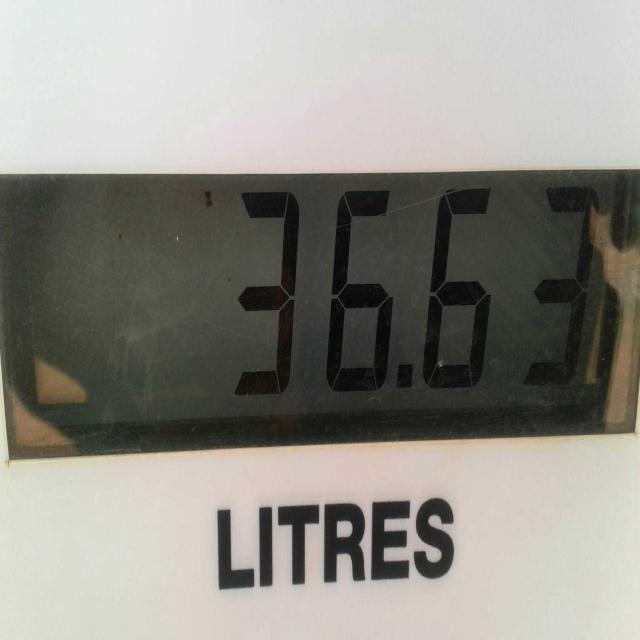.: (394, 349, 418, 398)
3: (229, 165, 306, 416), (528, 180, 603, 417)
6: (416, 186, 500, 407), (322, 190, 404, 398)
